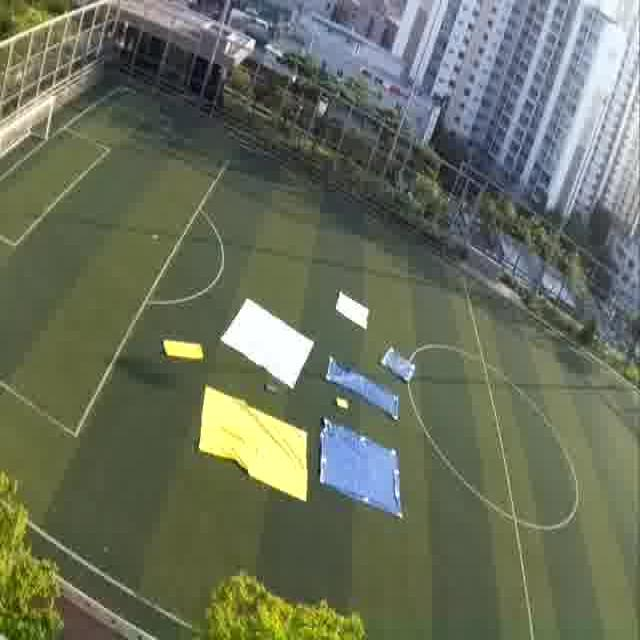danger: (316, 427, 398, 522), (326, 352, 378, 392), (384, 341, 418, 386)
safety: (220, 296, 316, 390), (333, 283, 376, 336)
warning: (194, 392, 307, 497), (159, 333, 208, 367)
